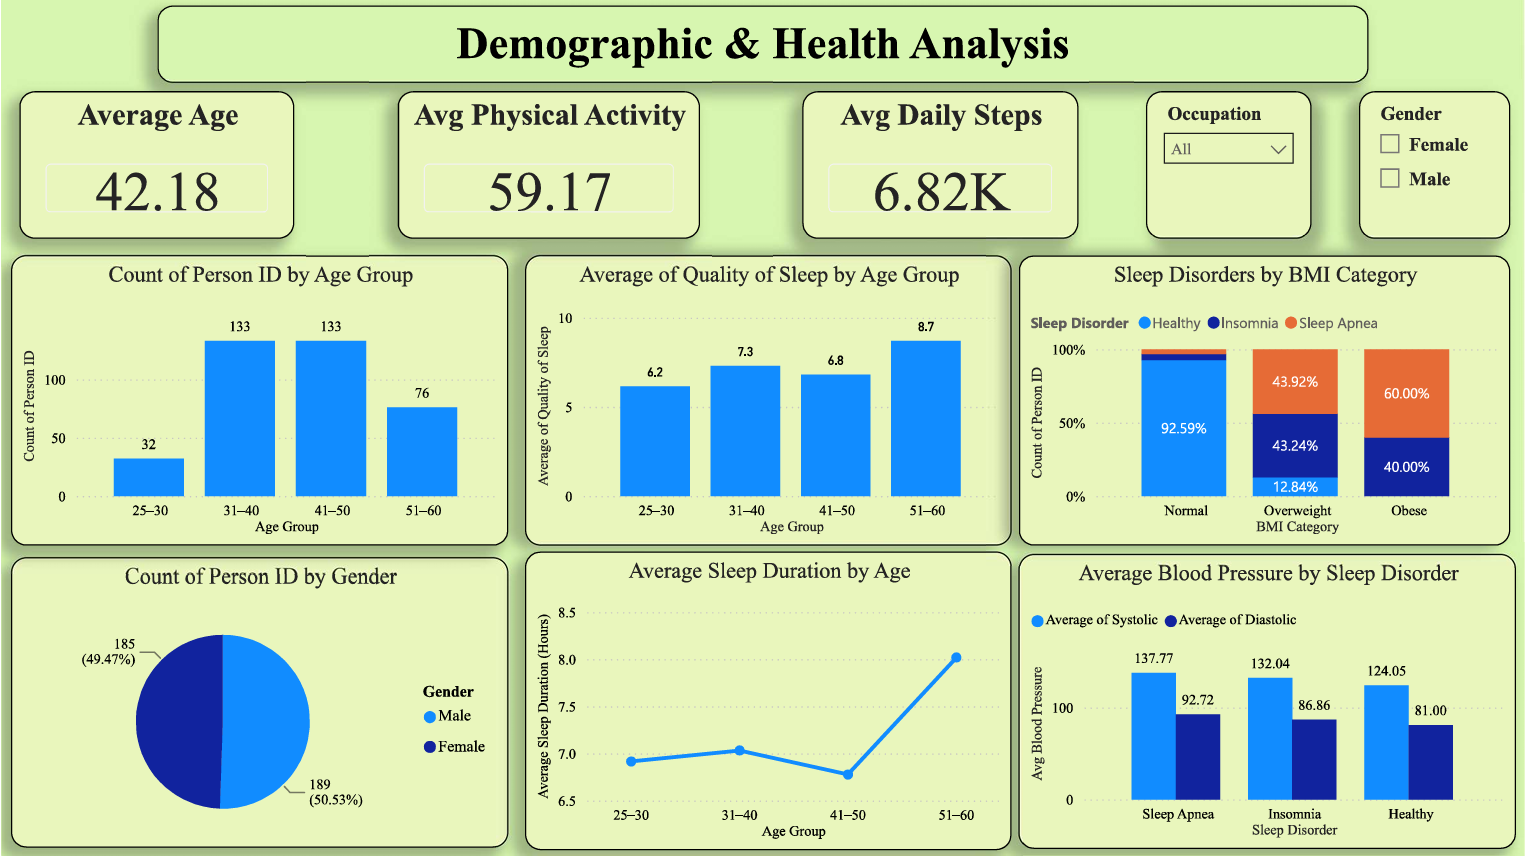

What the dashboard file says about the page in this screenshot:
{"tool":"powerbi","page":{"name":"Page 2","canvas":[1280,720],"ordinal":1},"visuals":[{"type":"clusteredColumnChart","title":"Average Blood Pressure by Sleep Disorder","fields":{"Y":["Avg(Sheet1.Systolic)","Avg(Sheet1.Diastolic)"],"Category":["Sheet1.Sleep Disorder"]},"box":[855,466,418,248],"z":0},{"type":"pieChart","fields":{"Category":["Sheet1.Gender"],"Y":["CountNonNull(Sheet1.Person ID)"]},"box":[7.9,469.3,417.9,243.6],"z":1000},{"type":"clusteredColumnChart","fields":{"Y":["Avg(Sheet1.Quality of Sleep)"],"Category":["Sheet1.Age Group"]},"box":[439.8,214.6,409.7,244.7],"z":2000},{"type":"lineChart","title":"Average Sleep Duration by Age","fields":{"Category":["Sheet1.Age Group"],"Y":["Avg(Sheet1.Sleep Duration)"]},"box":[440,464.3,409.3,250.7],"z":3000},{"type":"textbox","box":[131.3,4.9,1017.4,65.2],"z":4000},{"type":"slicer","fields":{"Values":["Sheet1.Occupation"]},"box":[962.2,76.7,138.9,124.4],"z":5000},{"type":"clusteredColumnChart","fields":{"Y":["CountNonNull(Sheet1.Person ID)"],"Category":["Sheet1.Age Group"]},"box":[7.9,215,417.9,244.3],"z":6000},{"type":"slicer","fields":{"Values":["Sheet1.Gender"]},"box":[1141.1,76.7,126.7,124.4],"z":7000},{"type":"cardVisual","title":"Average Age","fields":{"Data":["Avg(Sheet1.Age)"]},"box":[14.6,76.8,231.5,124.5],"z":8000},{"type":"cardVisual","title":"Avg Physical Activity","fields":{"Data":["Avg(Sheet1.Physical Activity Level)"]},"box":[332.6,76.8,253.9,124.5],"z":9000},{"type":"cardVisual","title":"Avg Daily Steps","fields":{"Data":["Avg(Sheet1.Daily Steps)"]},"box":[673.1,76.8,231.5,124.5],"z":10000},{"type":"hundredPercentStackedColumnChart","title":"Sleep Disorders by BMI Category","fields":{"Category":["Sheet1.BMI Category"],"Y":["Count(Sheet1.Person ID)"],"Series":["Sheet1.Sleep Disorder"]},"box":[854.8,214.6,413.2,244.7],"z":11000}]}

Visuals, with their boxes in screenshot pixels (x1, y1, x2, y2), scaled from the page's 1280x720 canvas onto the 1526x857 screenshot:
"Average Blood Pressure by Sleep Disorder" clusteredColumnChart: region(1019, 555, 1518, 850)
pieChart - Sheet1.Gender x CountNonNull(Sheet1.Person ID): region(9, 559, 508, 849)
clusteredColumnChart - Avg(Sheet1.Quality of Sleep) x Sheet1.Age Group: region(524, 255, 1013, 547)
"Average Sleep Duration by Age" lineChart: region(525, 553, 1013, 851)
textbox: region(157, 6, 1369, 83)
slicer - Sheet1.Occupation: region(1147, 91, 1313, 239)
clusteredColumnChart - CountNonNull(Sheet1.Person ID) x Sheet1.Age Group: region(9, 256, 508, 547)
slicer - Sheet1.Gender: region(1360, 91, 1511, 239)
"Average Age" cardVisual: region(17, 91, 293, 240)
"Avg Physical Activity" cardVisual: region(397, 91, 699, 240)
"Avg Daily Steps" cardVisual: region(802, 91, 1078, 240)
"Sleep Disorders by BMI Category" hundredPercentStackedColumnChart: region(1019, 255, 1512, 547)
